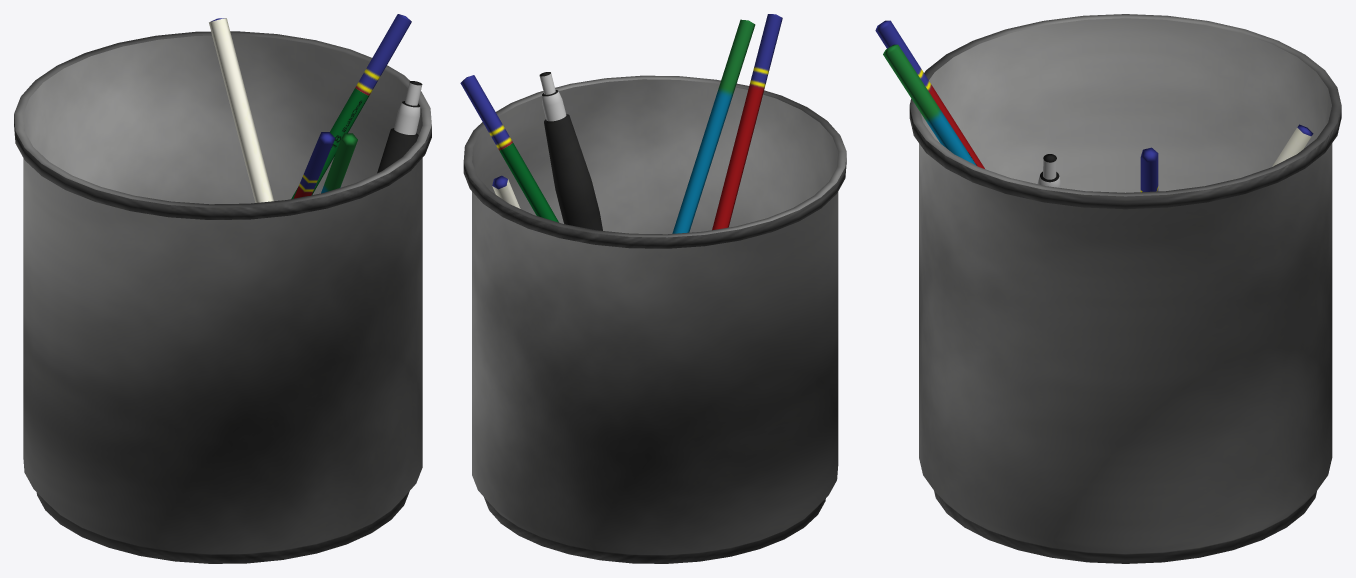
The model's file is Pot-of-Pens.fbx.
3 views of the same model, side by side, from view 1: azimuth 30°, elevation 25°; view 2: azimuth 150°, elevation 25°; view 3: azimuth 270°, elevation 25° (orthographic). The views are drawn at different scales.
Parts seen in each view (by area): view 1: Pot, Pen2, Pencil2, Pen1, Pencil1, Pencil; view 2: Pot, Pen1, Pencil, Pencil1, Pencil2, Pen2; view 3: Pot, Pencil, Pencil1, Pencil2, Pen2.
Boxes of the visible parts, box(x1,y1,x2,y2) form: Pot: box(14, 31, 431, 563); Pen2: box(209, 18, 273, 202); Pencil2: box(291, 14, 411, 198); Pen1: box(377, 81, 422, 173); Pencil1: box(293, 132, 335, 198); Pencil: box(321, 133, 357, 193); Pot: box(463, 75, 846, 563); Pen1: box(539, 72, 602, 230); Pencil: box(672, 19, 755, 233); Pencil1: box(712, 14, 782, 230); Pencil2: box(460, 75, 558, 222); Pen2: box(492, 175, 520, 208); Pot: box(909, 14, 1341, 563); Pencil: box(883, 44, 976, 165); Pencil1: box(875, 20, 984, 168); Pencil2: box(1140, 147, 1158, 192); Pen2: box(1272, 124, 1313, 166).
Bounding box in the file's own units: 14.5 × 16.01 × 14.91.
